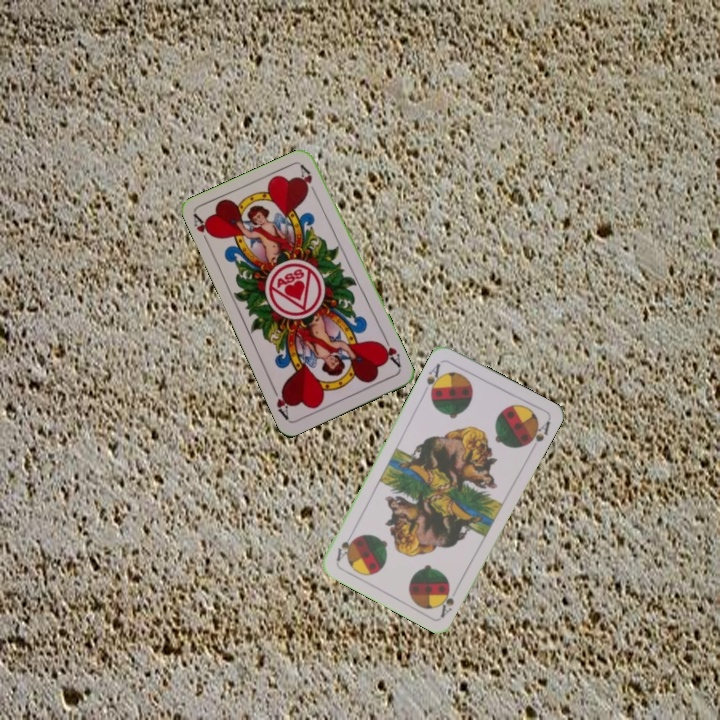HA: (189, 211, 217, 250), (375, 333, 403, 370)
SA: (422, 359, 446, 399), (436, 584, 457, 620)
